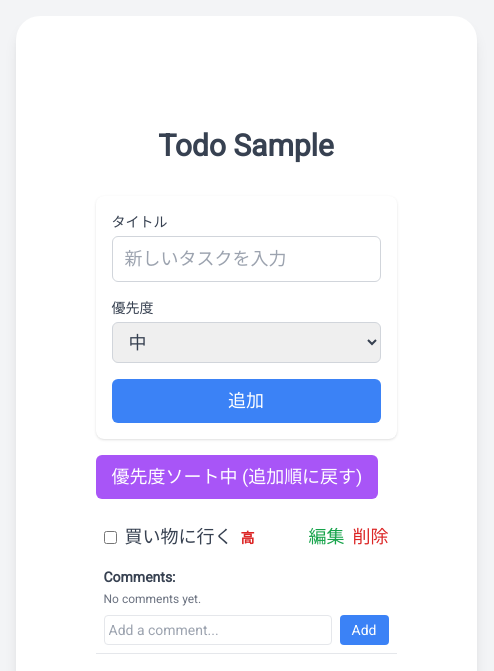
Test case: App › Todoアイテムを削除できる
The image size is (494, 671).
Step 1. Click the button "削除" in the row of "買い物に行く" → (370, 537), box [352,523,388,551]
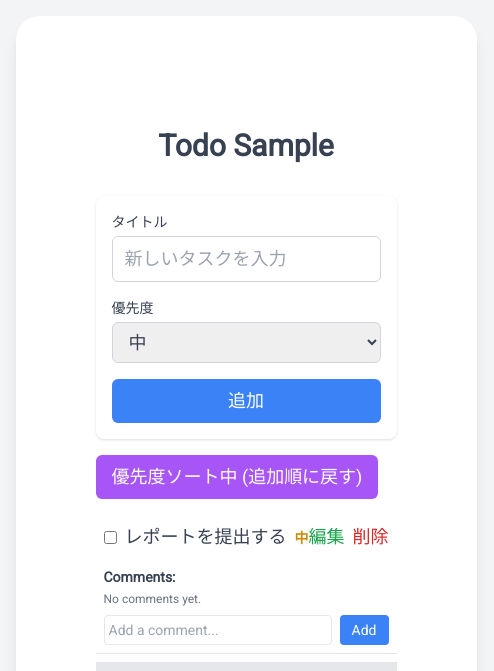
Expected: the text "買い物に行く" is gone
